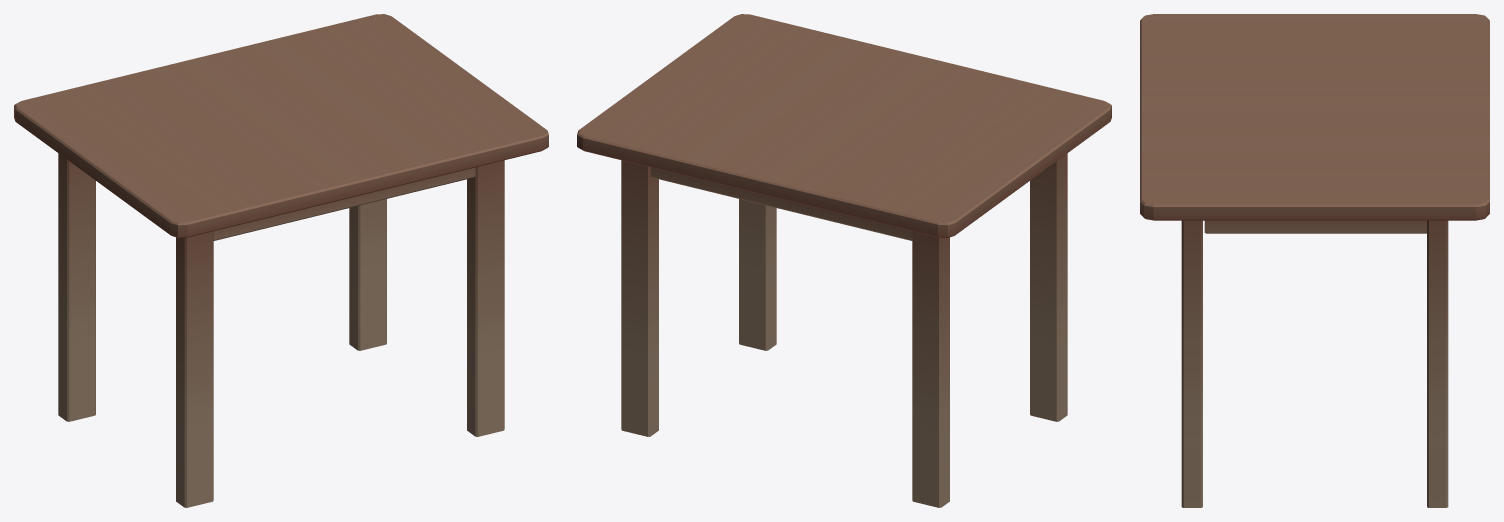
Rendered from table.obj.
3 views of the same model, side by side, from view 1: azimuth 30°, elevation 25°; view 2: azimuth 150°, elevation 25°; view 3: azimuth 270°, elevation 25° (orthographic). The views are drawn at different scales.
Parts seen in each view (by area): view 1: Circle; view 2: Circle; view 3: Circle.
Boxes of the visible parts, <box> form: Circle: <box>14,14,548,507</box>; Circle: <box>577,14,1111,507</box>; Circle: <box>1140,14,1489,507</box>.
Bounding box in the file's own units: 0.0775 × 0.0596 × 0.0596.
1 material, 1 textured.
